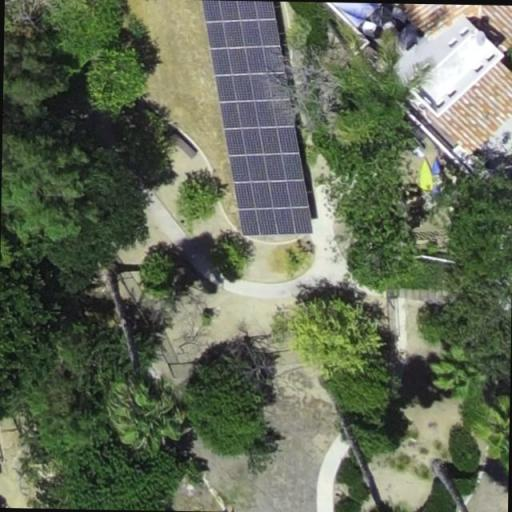solar-panel: (199, 0, 314, 236)
